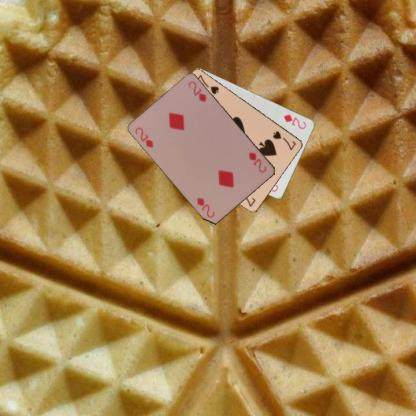2d: (132, 124, 155, 149), (246, 150, 268, 174), (281, 112, 307, 130)
7s: (270, 128, 298, 152)
